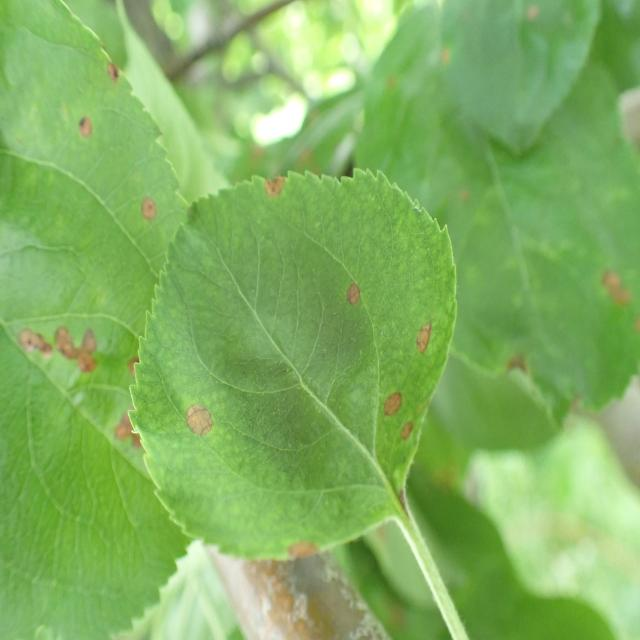frog-eye-leaf-spot: (128, 167, 458, 561), (0, 0, 190, 640)
